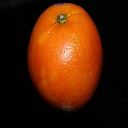orange: (28, 4, 104, 110)
